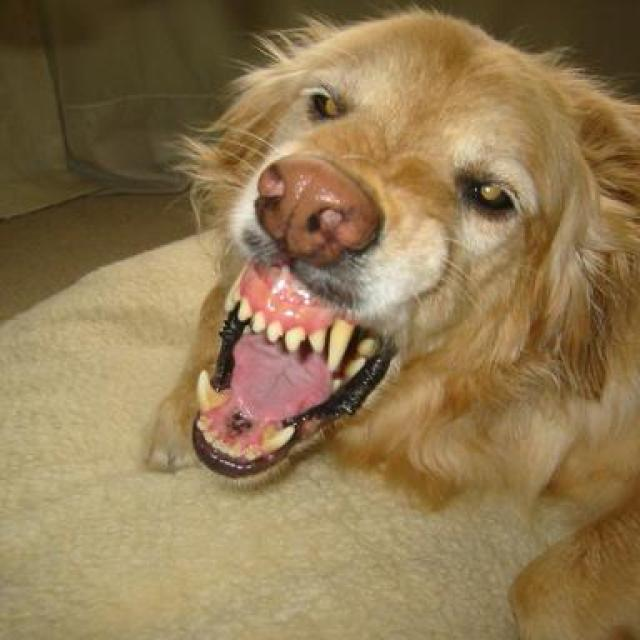angry: (118, 0, 639, 580)
